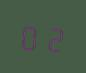two: (42, 19, 64, 54)
zero: (19, 18, 41, 52)
